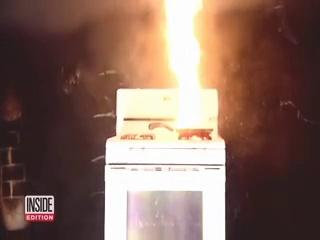Fire: (158, 1, 220, 134)
